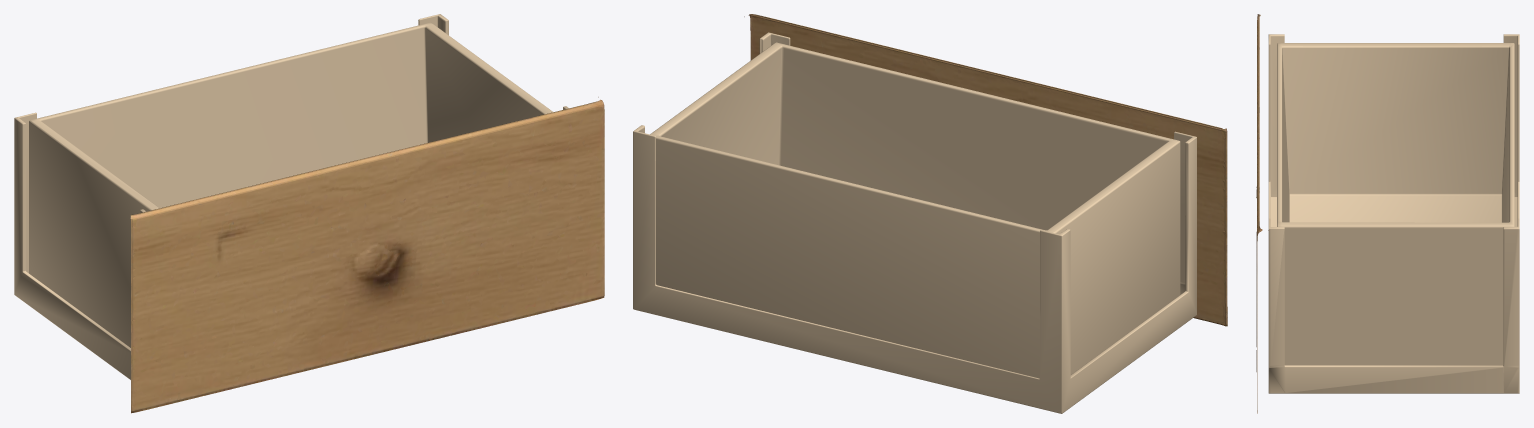
Rendered from drawer_bottom.glb.
The picture shows the model from 3 angles, left to right: view 1: azimuth 30°, elevation 25°; view 2: azimuth 150°, elevation 25°; view 3: azimuth 270°, elevation 25°; orthographic projection. The views are drawn at different scales.
Visible parts, largest first — view 1: source_front_cap_0, prefab_drawer_body_2; view 2: prefab_drawer_body_2, source_front_cap_0; view 3: prefab_drawer_body_2, source_front_cap_0.
Part boxes in pixels (box(x1,y1,x2,y2)): source_front_cap_0: box(130, 97, 604, 413); prefab_drawer_body_2: box(14, 14, 568, 379); prefab_drawer_body_2: box(633, 32, 1196, 413); source_front_cap_0: box(744, 14, 1227, 326); prefab_drawer_body_2: box(1268, 34, 1519, 393); source_front_cap_0: box(1256, 14, 1268, 413).
Size of the model in its own units: 0.4863 by 0.1932 by 0.2509.
Materials: 2 (1 with a texture image).
